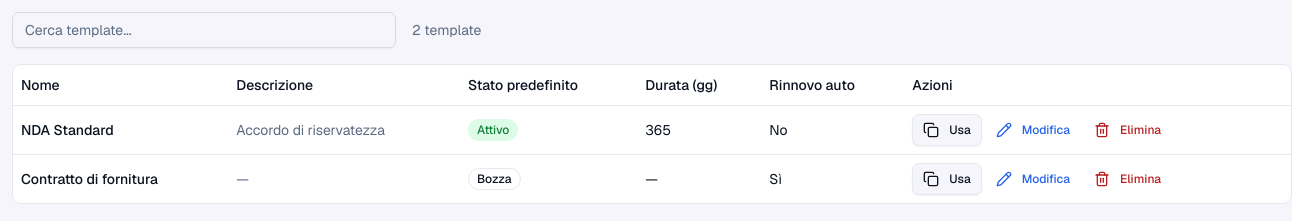
ContractTemplateTable › filters templates by search input
In the field labelled "Cerca template...": [204, 30] box [12,12,396,48], type "NDA"
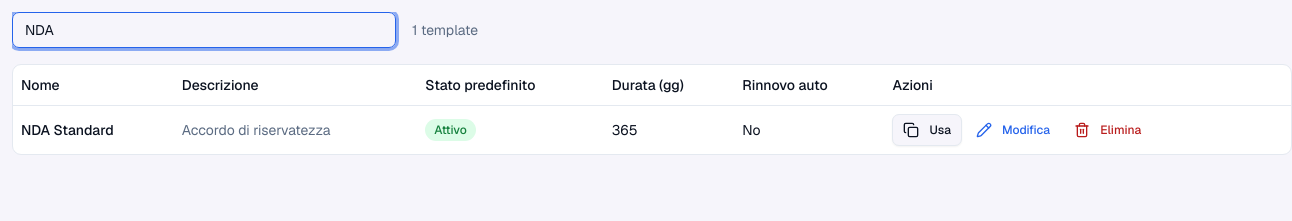
Expected: the text "NDA Standard" is shown, [13,105,174,154]
Expected: the text "Contratto di fornitura" is gone
Expected: the text "1 template" is shown, [412,20,478,40]
